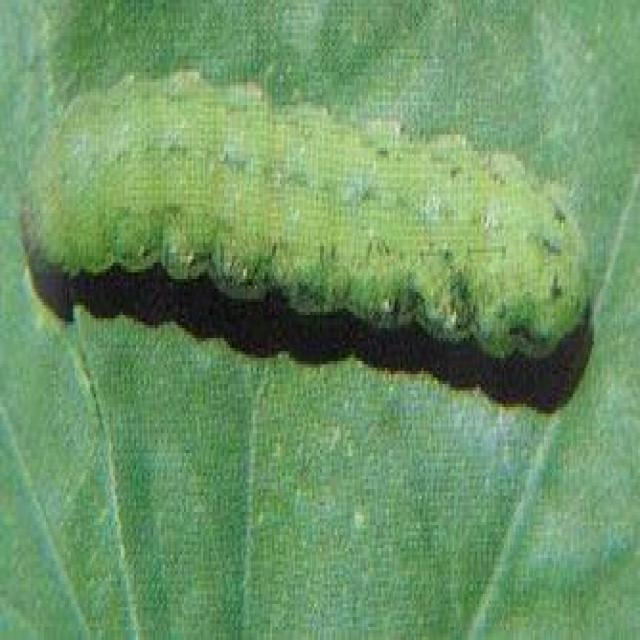BeetArmyWorm-Larva-: (13, 51, 597, 380)
